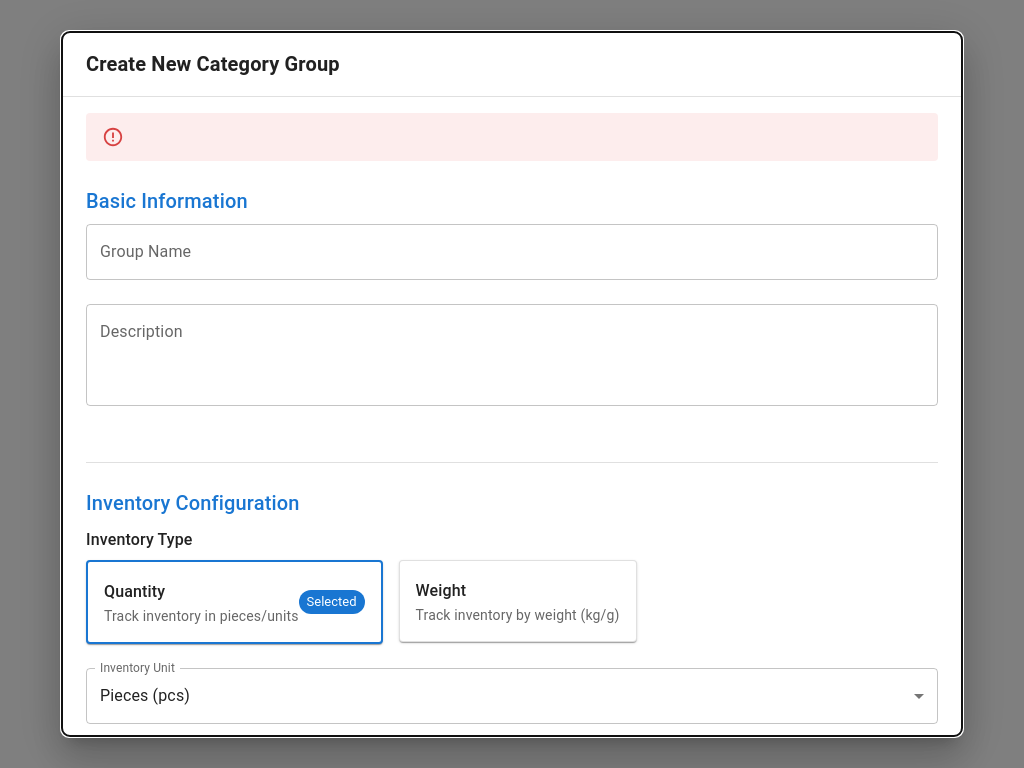
it: CategoryGroupFormWithInventory - Real-time Preview › should show unit conversion hints for weight-based inventory
// Switch to weight-based inventory
Click the heading "Weight". click: (441, 590)
box: left=416, top=581, right=466, bottom=600
(page scrolled)
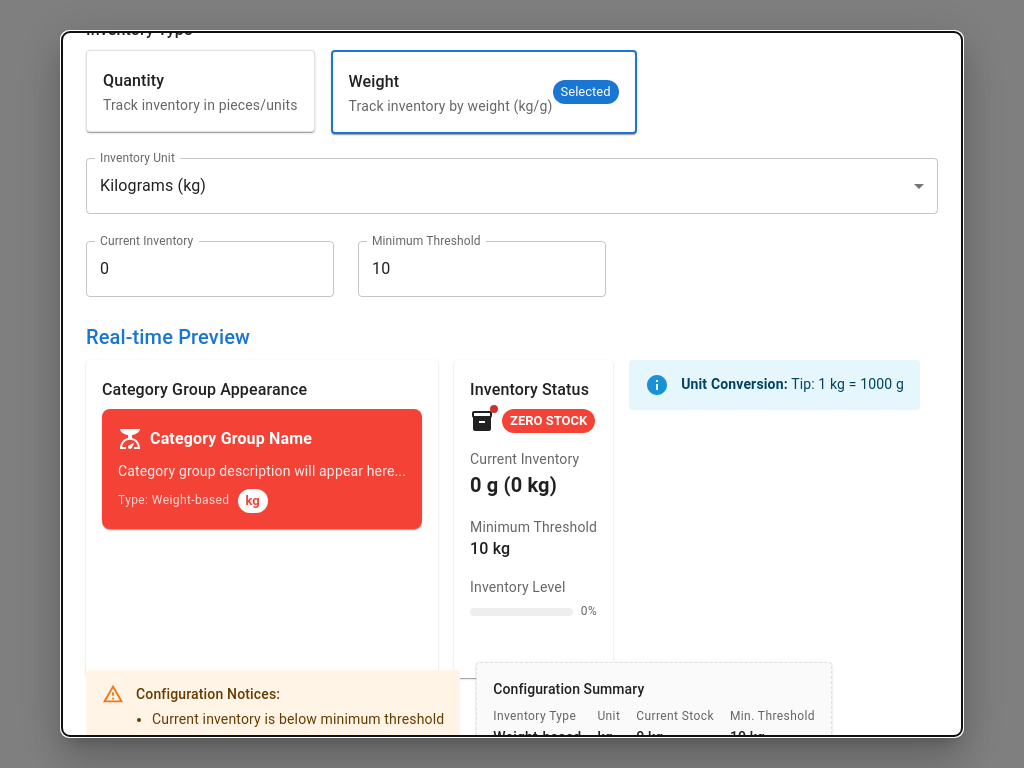
Now the text "Unit Conversion: Tip: 1 kg = 1000 g" is shown, box left=681, top=374, right=904, bottom=394
